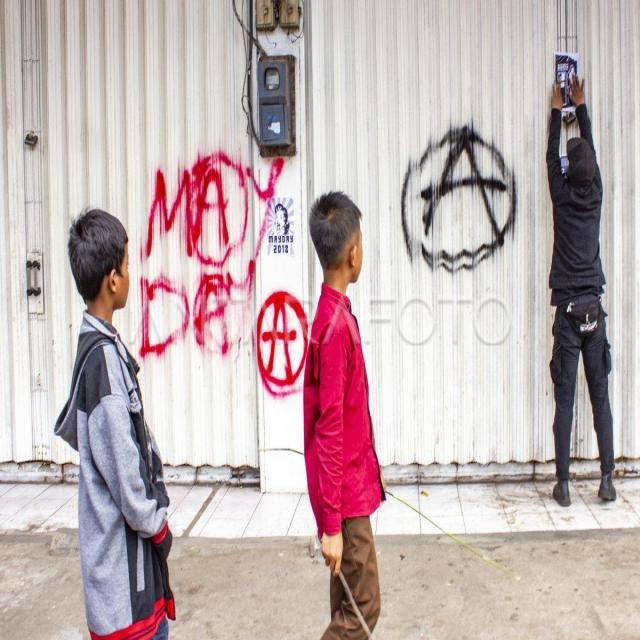nonspitting: (139, 154, 308, 402), (400, 126, 518, 272)
